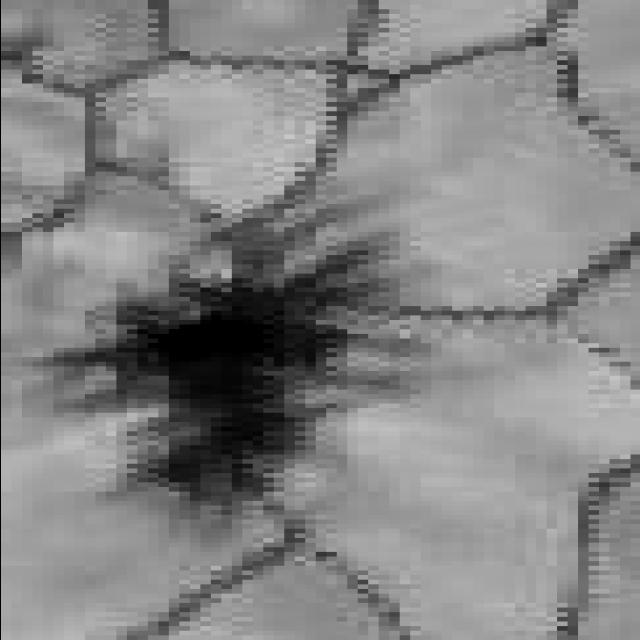good_void: (22, 211, 434, 518)
